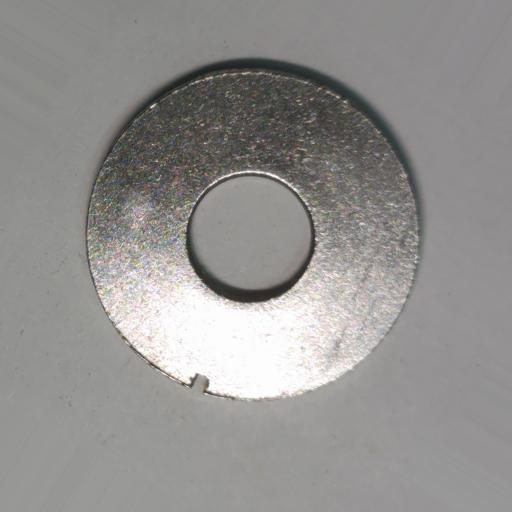burr: (189, 372, 210, 394)
